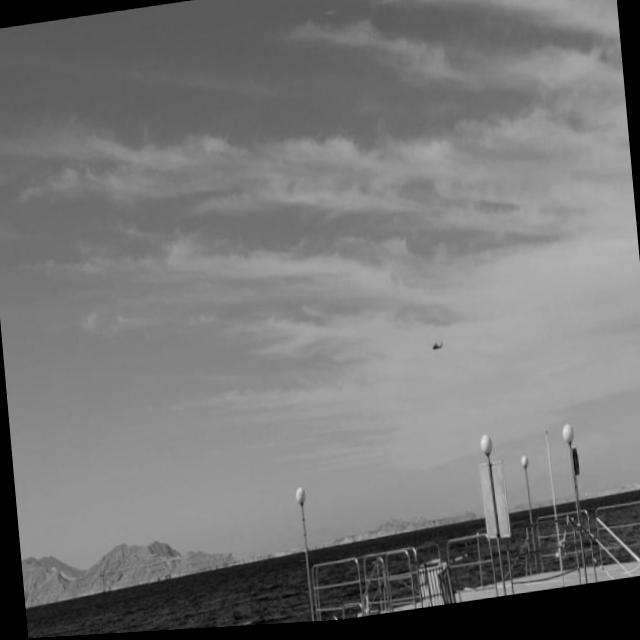helikopter: (414, 325, 454, 376)
